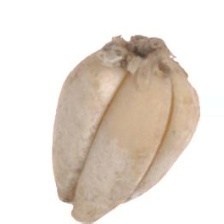L1: (53, 178, 131, 222), (108, 33, 181, 71)
L2: (51, 36, 201, 224)
